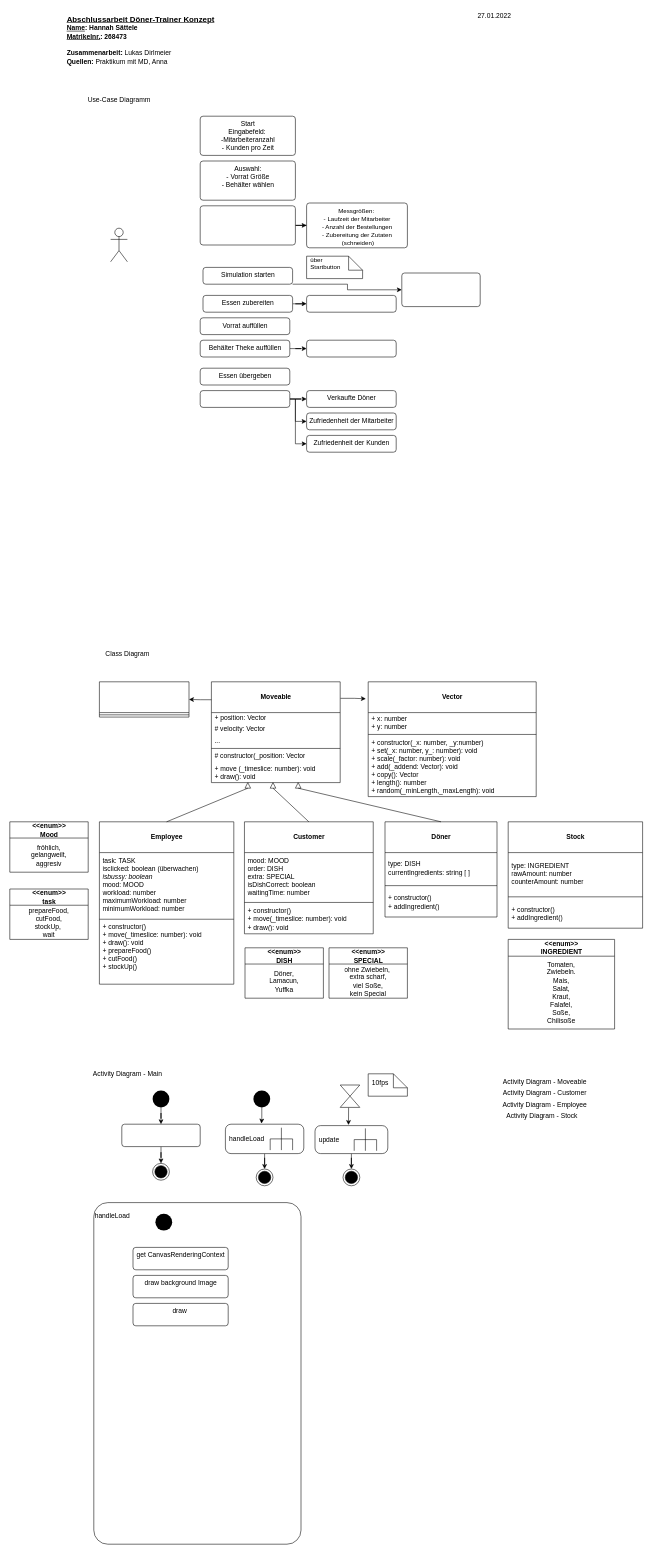
Some shapes in this 652 by 1554 pixel diagram are drawn without their labels. The centre of each missing label's shape, as x and y in pixels:
"Anzeige:" belongs at [245,398].
"Arbeitsauslastung workload minimum maximum" belongs at [440,289].
"CanvasRenderingContext" belongs at [144,699].
"Dönerladen Gamer" belongs at [118,245].
"install load listener on window" belongs at [160,1135].
"Mitarbeiter Auslastung definieren" belongs at [247,225].
"Zutaten auf Döner legen" belongs at [351,303].
"Zutaten schneiden" belongs at [351,348].
